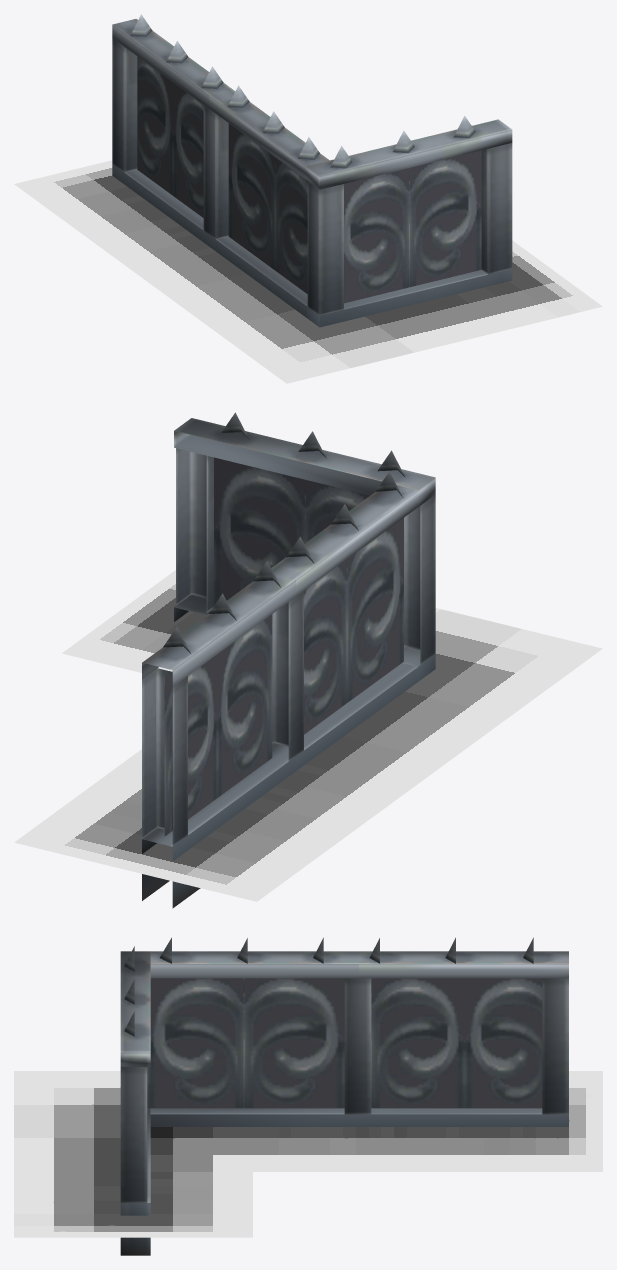
File: int_fence_13.dae
3 views of the same model, one above another, from view 1: azimuth 30°, elevation 25°; view 2: azimuth 150°, elevation 25°; view 3: azimuth 270°, elevation 25° (orthographic). The views are drawn at different scales.
Parts seen in each view (by area): view 1: int_fence_13; view 2: int_fence_13; view 3: int_fence_13.
Boxes of the visible parts, x1=… form: int_fence_13: x1=14, y1=14, x2=602, y2=383; int_fence_13: x1=14, y1=412, x2=602, y2=908; int_fence_13: x1=14, y1=937, x2=602, y2=1255.
Bounding box in the file's own units: 46.18 × 28.94 × 69.
Materials: 2 (2 with a texture image).
